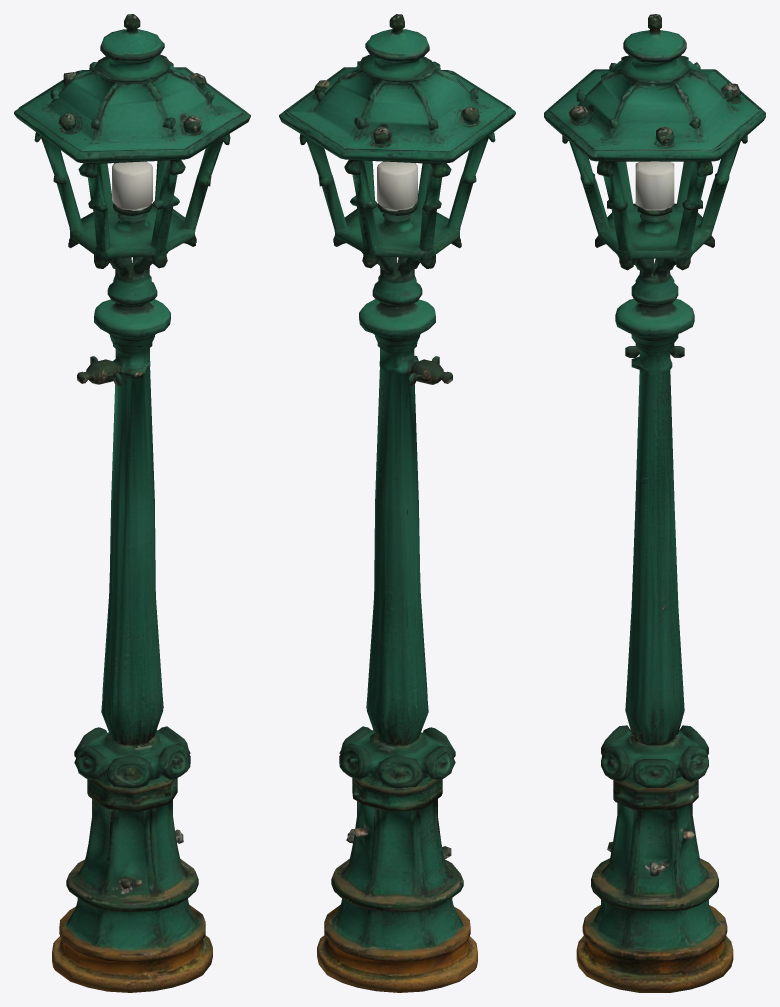
The picture shows the model from 3 angles, left to right: view 1: azimuth 30°, elevation 25°; view 2: azimuth 150°, elevation 25°; view 3: azimuth 270°, elevation 25°; orthographic projection.
Parts seen in each view (by area): view 1: tripo_node_b89ef540-8583-4ea2-bbab-0f47f82957bc; view 2: tripo_node_b89ef540-8583-4ea2-bbab-0f47f82957bc; view 3: tripo_node_b89ef540-8583-4ea2-bbab-0f47f82957bc.
Part boxes in pixels (box(x1,y1,x2,y2)): tripo_node_b89ef540-8583-4ea2-bbab-0f47f82957bc: box(14, 14, 250, 992); tripo_node_b89ef540-8583-4ea2-bbab-0f47f82957bc: box(279, 14, 515, 992); tripo_node_b89ef540-8583-4ea2-bbab-0f47f82957bc: box(544, 14, 765, 992).
Bounding box in the file's own units: 0.1937 × 1 × 0.2133.
1 material, 1 textured.
